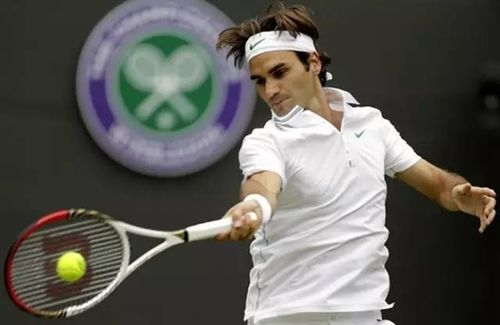no-phone: (186, 197, 268, 243)
